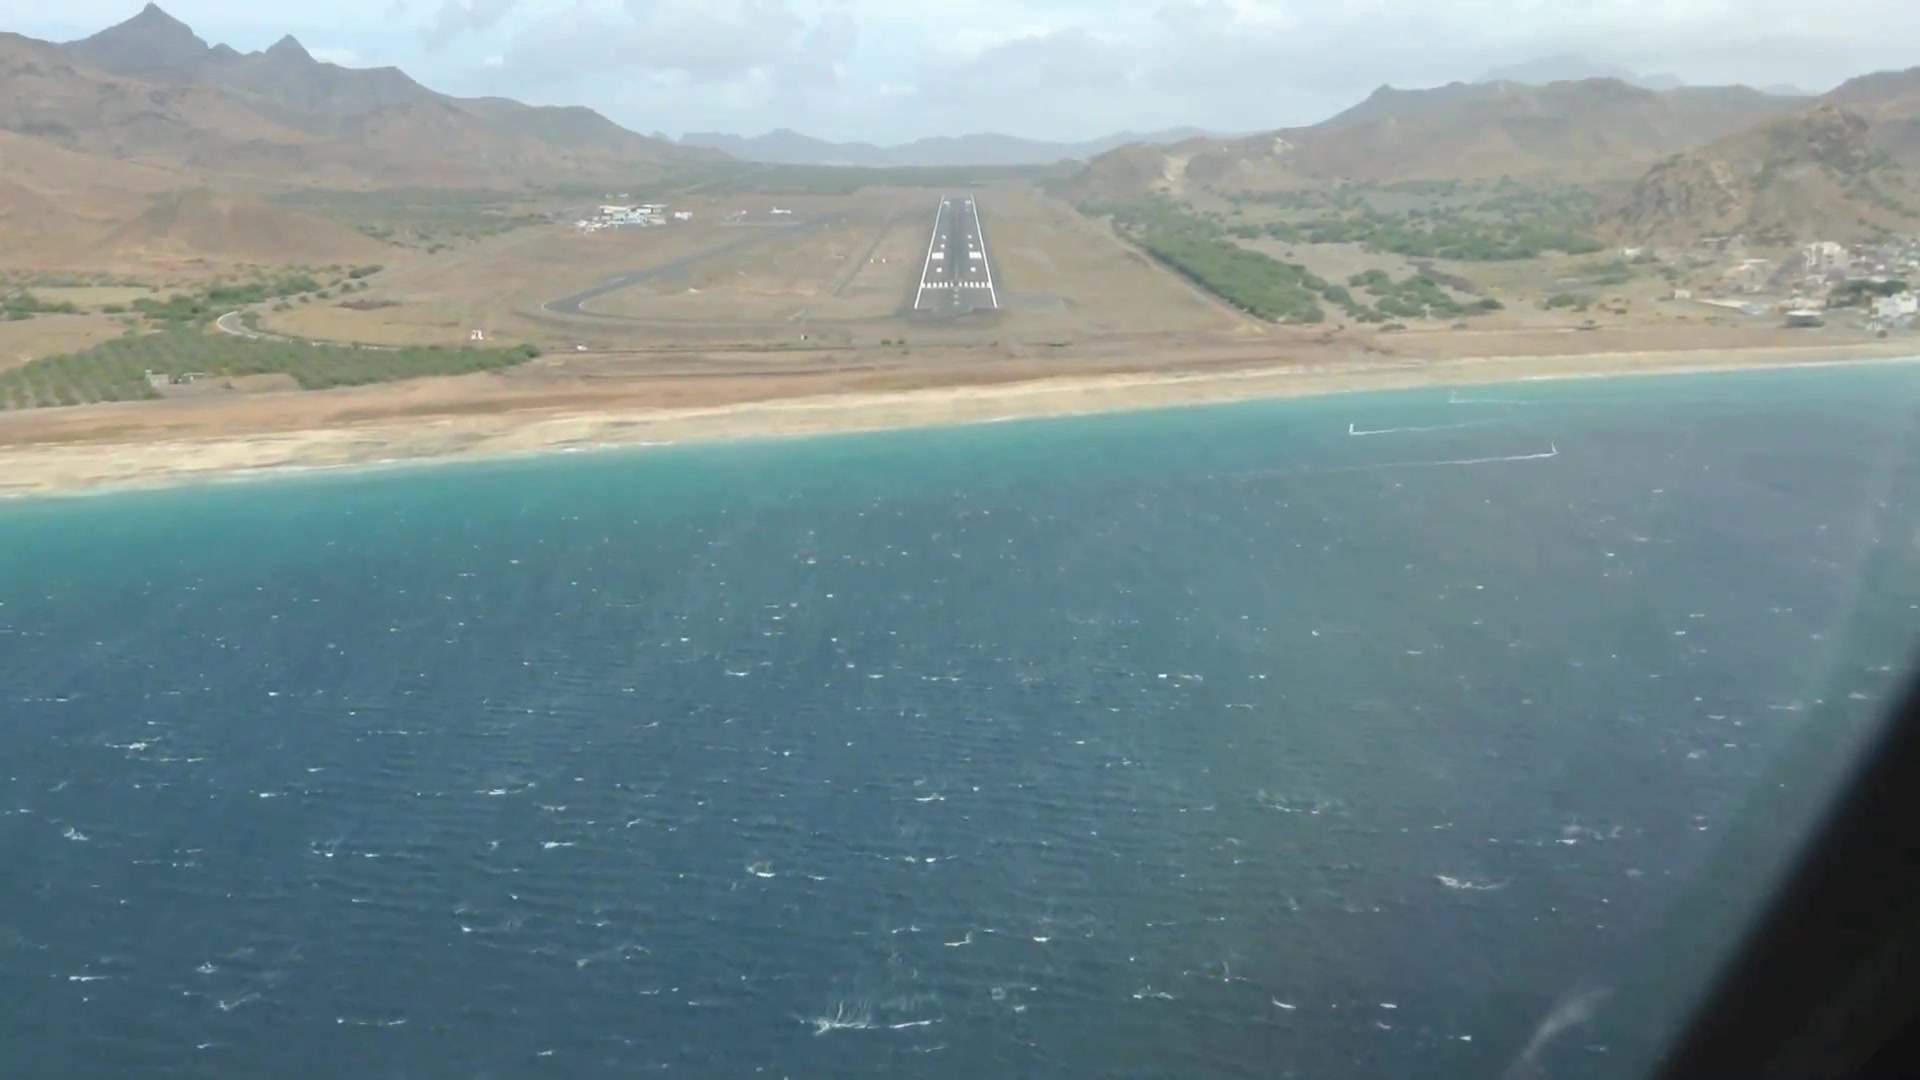entrance: (916, 280, 993, 290)
runway: (913, 191, 998, 309)
